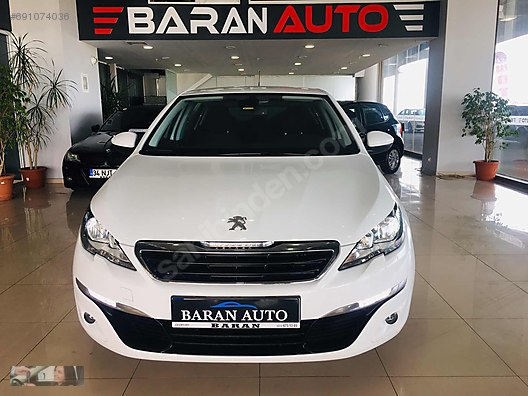peugeot: (69, 82, 417, 369)
